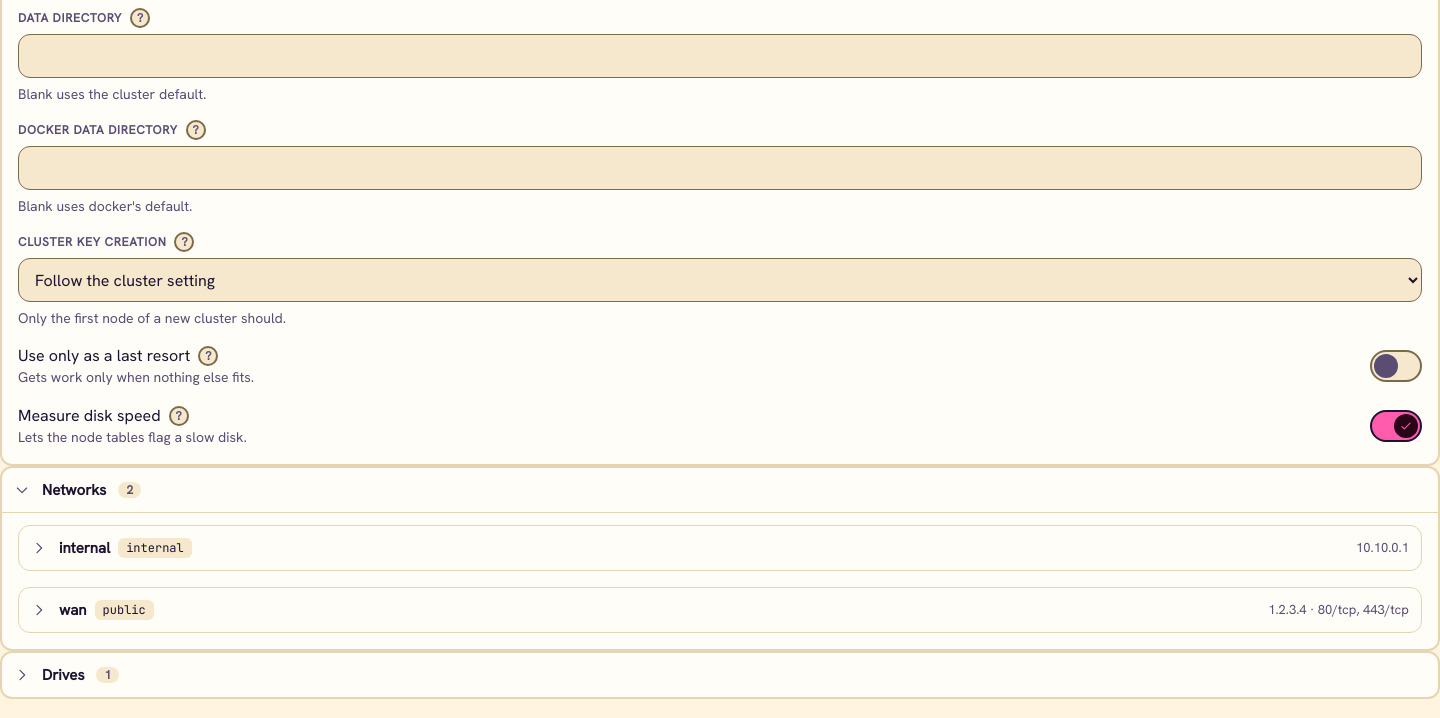
Test: SettingsNodes › expands a network row to edit it
(page scrolled)
What coordinates should you click on to do the following:
click the button "wan public 1.2.3.4 · 80/tcp, 443/tcp"
I would click on:
 (124, 610)
Its box is [19,588,1421,632].
(page scrolled)
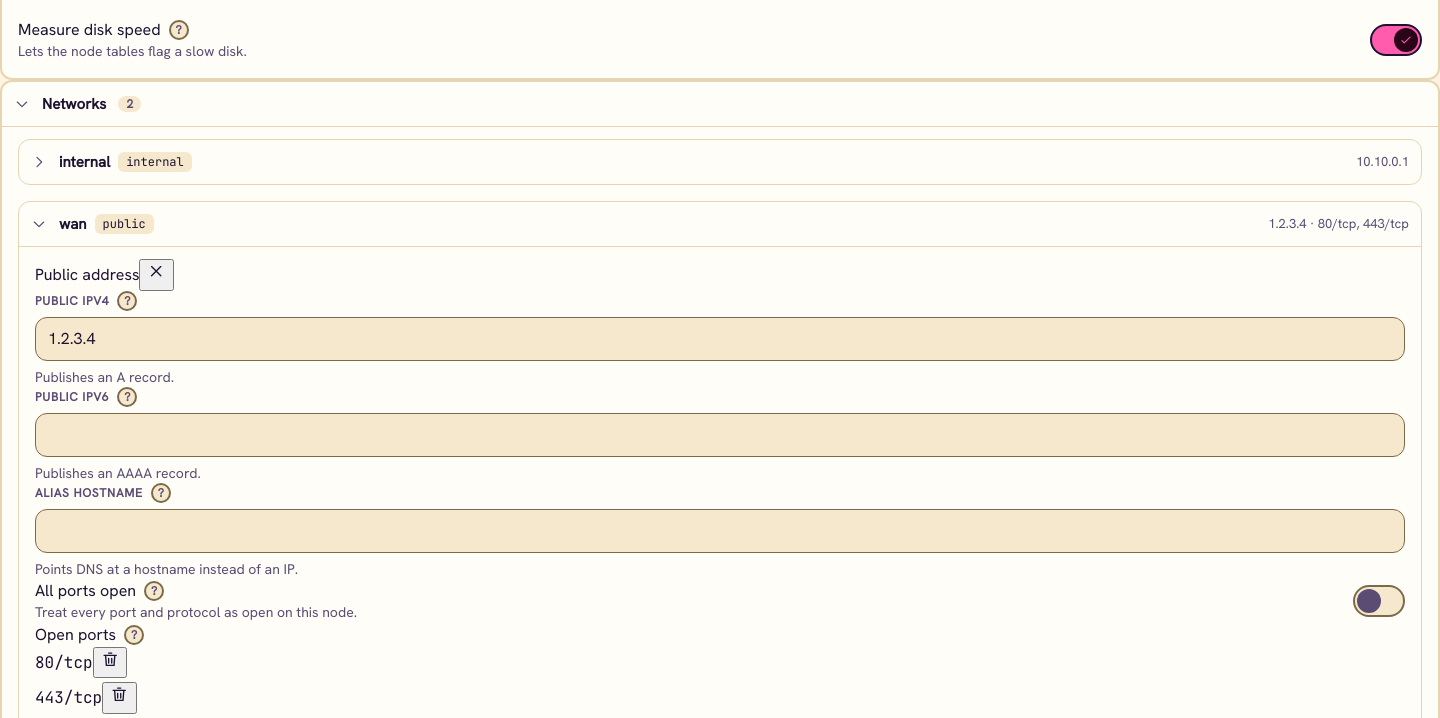
Expected: the field labelled "Public IPv4" holds "1.2.3.4", [35,317,1405,361]
